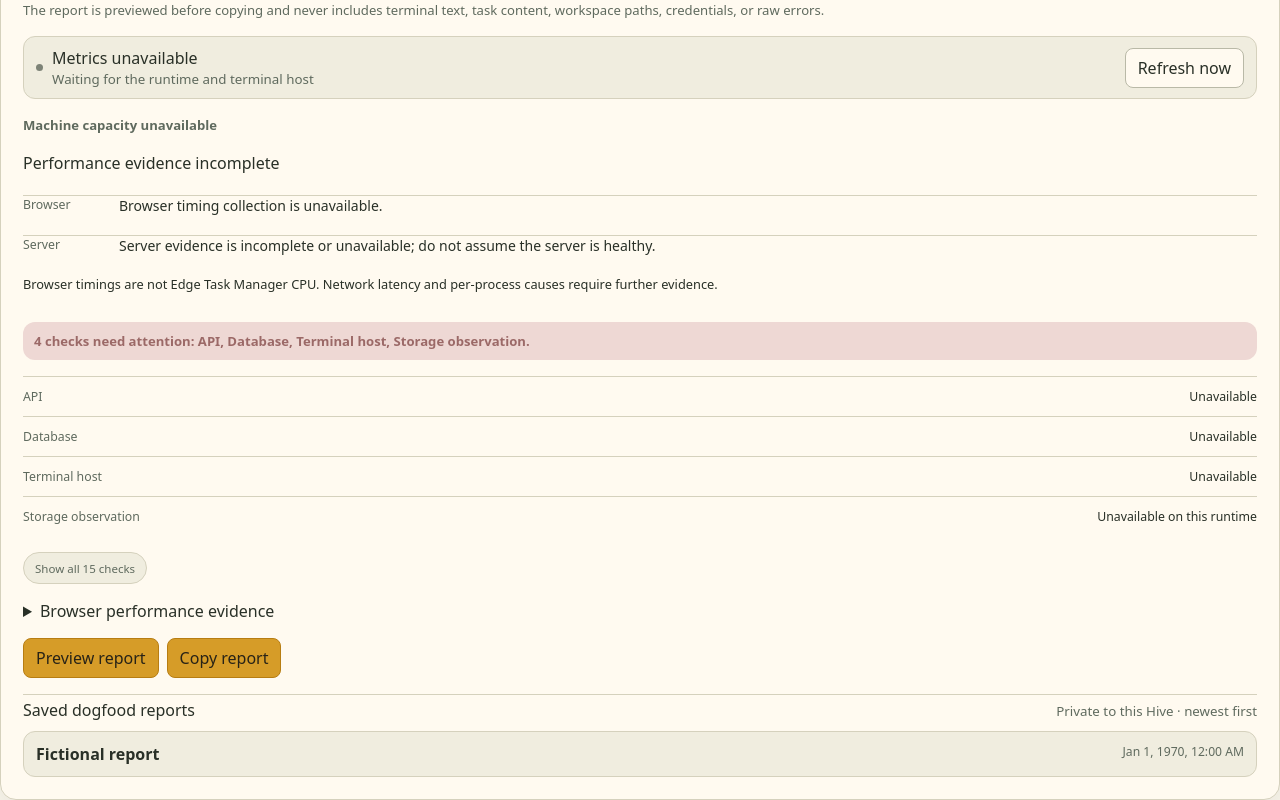
Test: saved report copy failure exposes the exact saved bundle and recovers on retry
(page scrolled)
Click the text "Fictional report" at (98, 754), box [36,743,160,765]
(page scrolled)
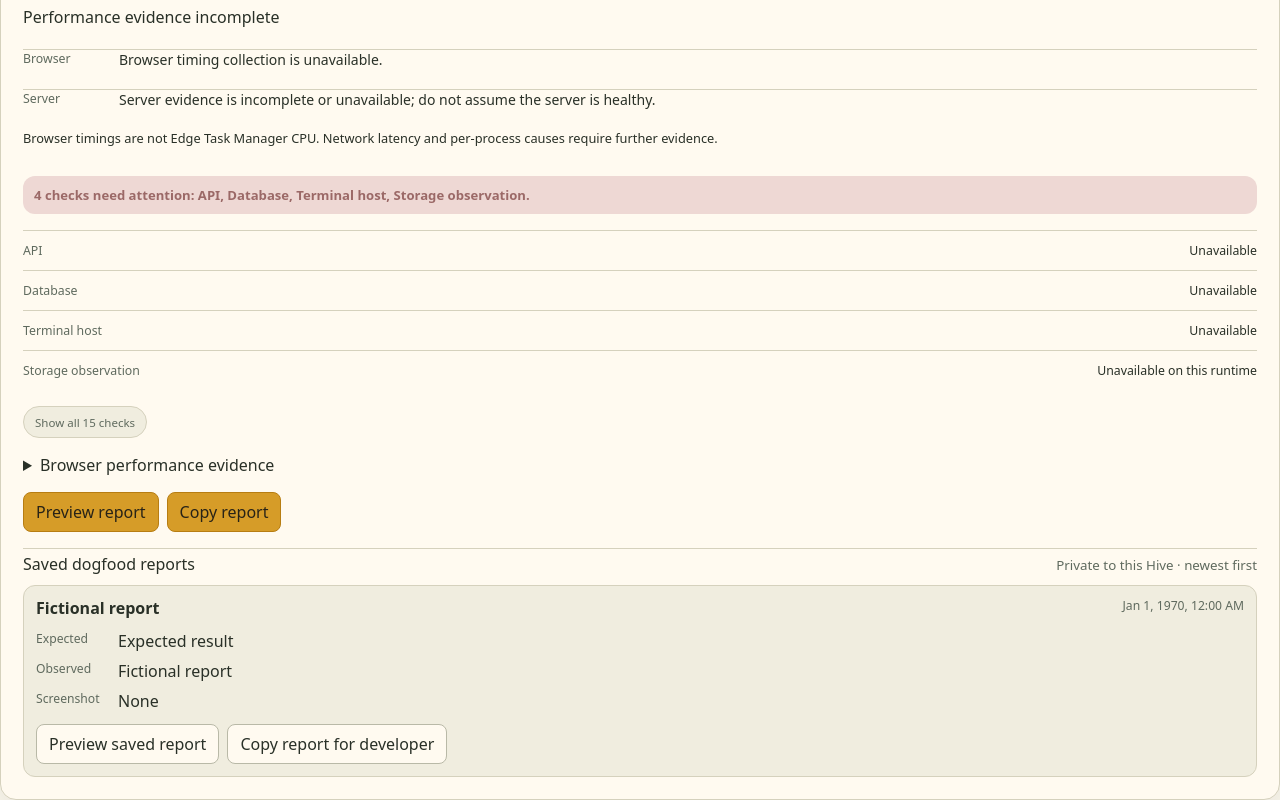
Click the button "Copy report for developer" at (337, 744), box [227,724,447,764]
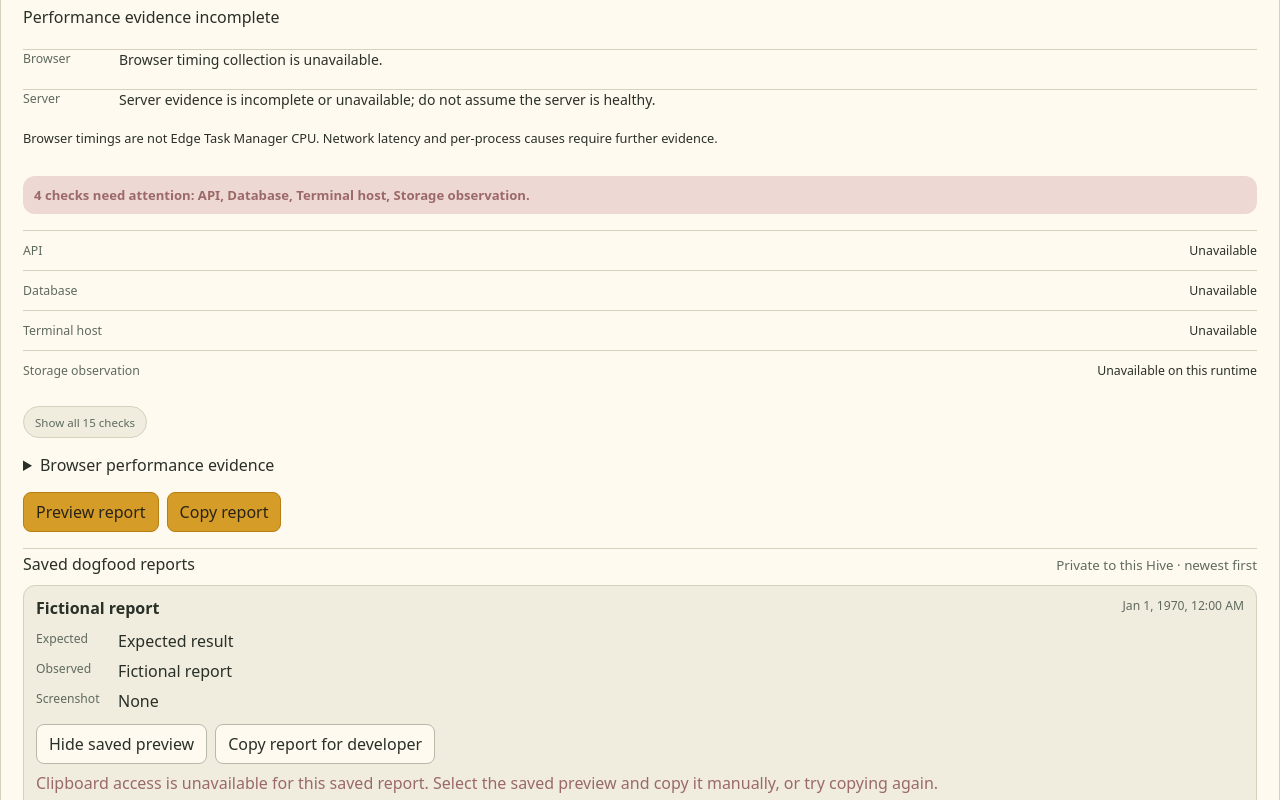
expect the text "Clipboard access is unavailable for this saved report" is shown: met, box [36,772,938,794]
Click the button "Copy report for developer" at (325, 744), box [215,724,435,764]
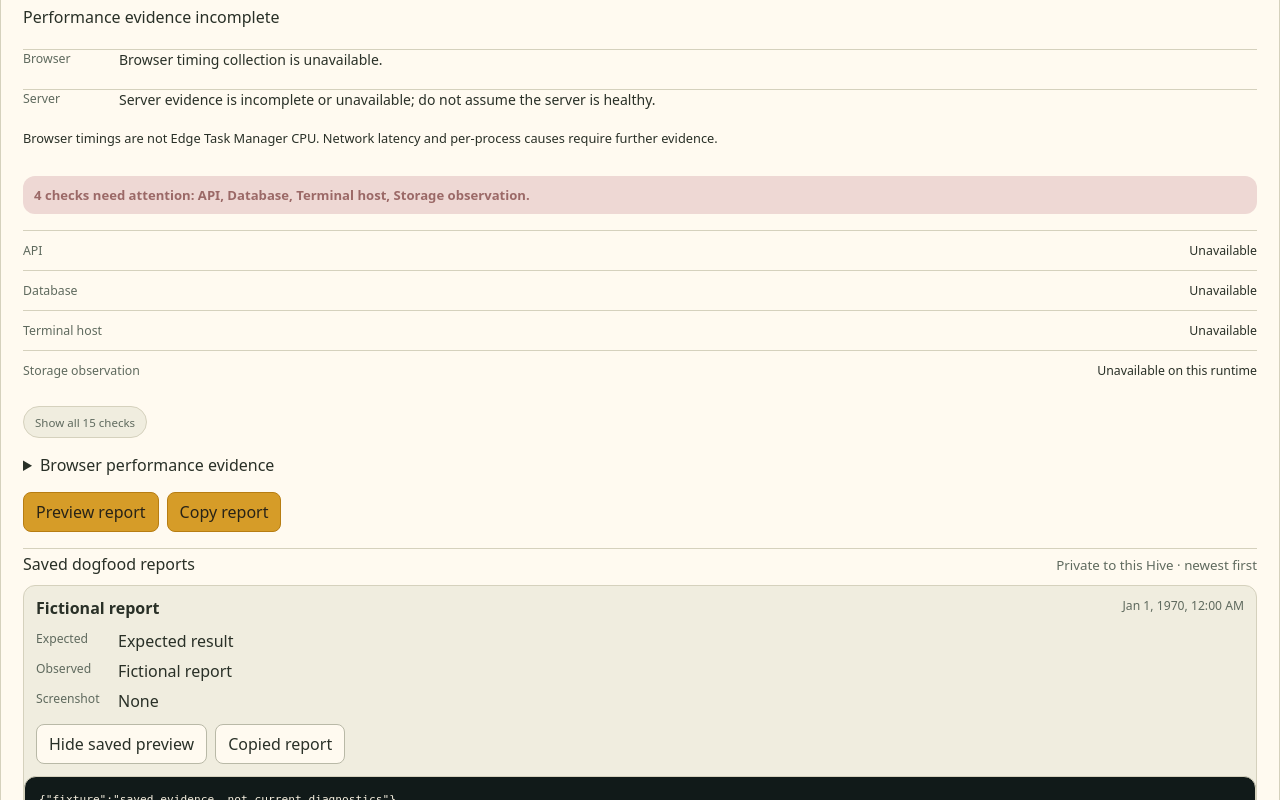
expect the button "Copied report" is shown: met, box [215,724,345,764]
expect the text "Clipboard access is unavailable for this saved report" is gone: met
